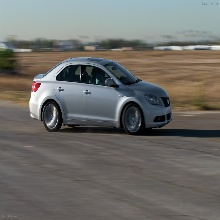no damage: (28, 57, 173, 134)
